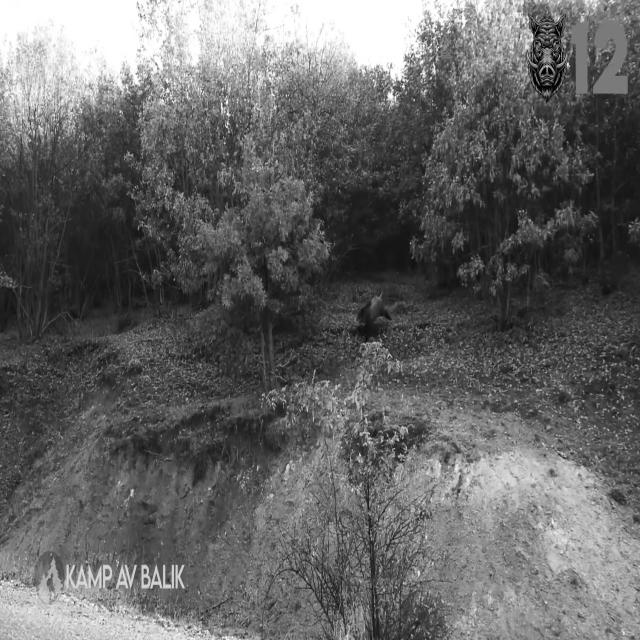boar: (526, 14, 568, 101), (357, 292, 390, 340)
